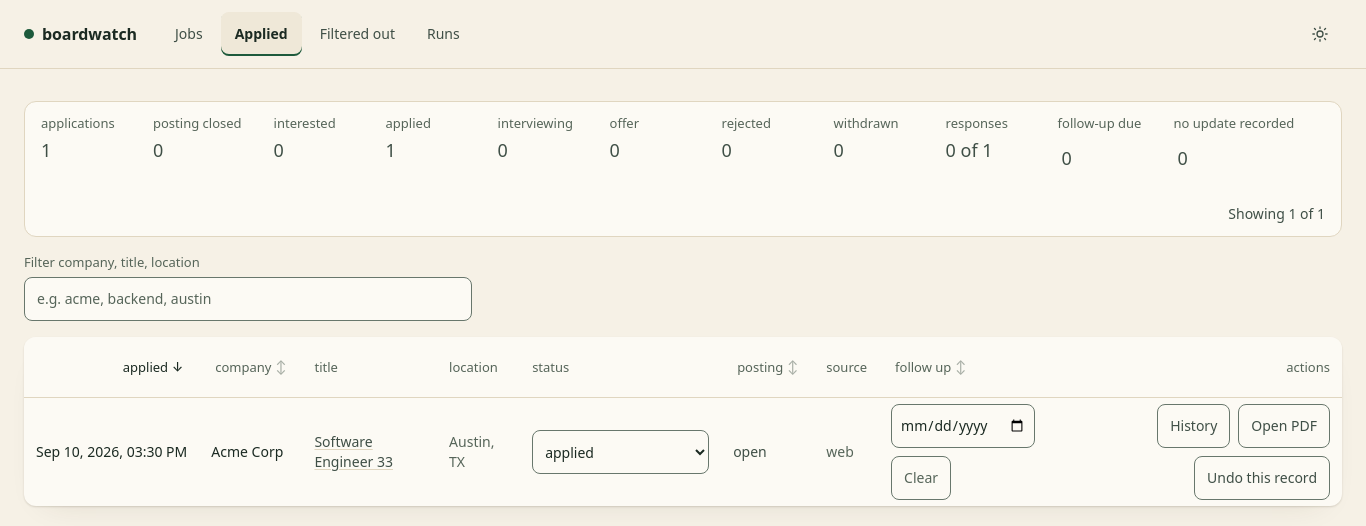
Test case: the empty state › points at the search box, not at the queue, when a filter hid every row
Type "nothing-matches" into the search field.
click(248, 299); type("nothing-matches")  # box 24,277 -> 472,321
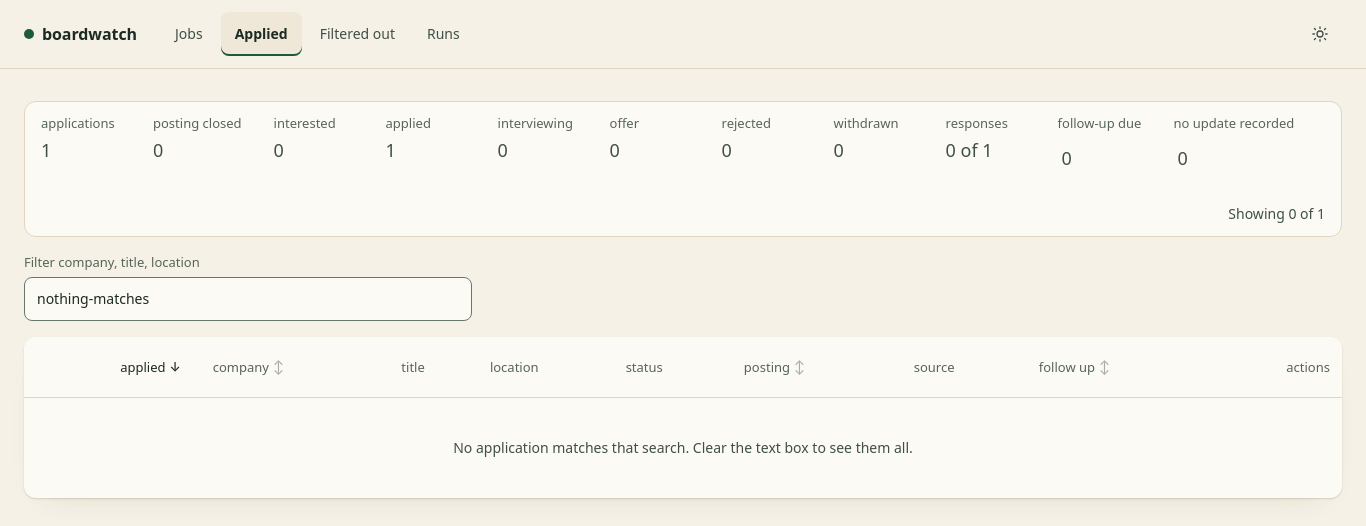
Check: the text "No application matches that search" is shown, box 453,438 -> 913,457
